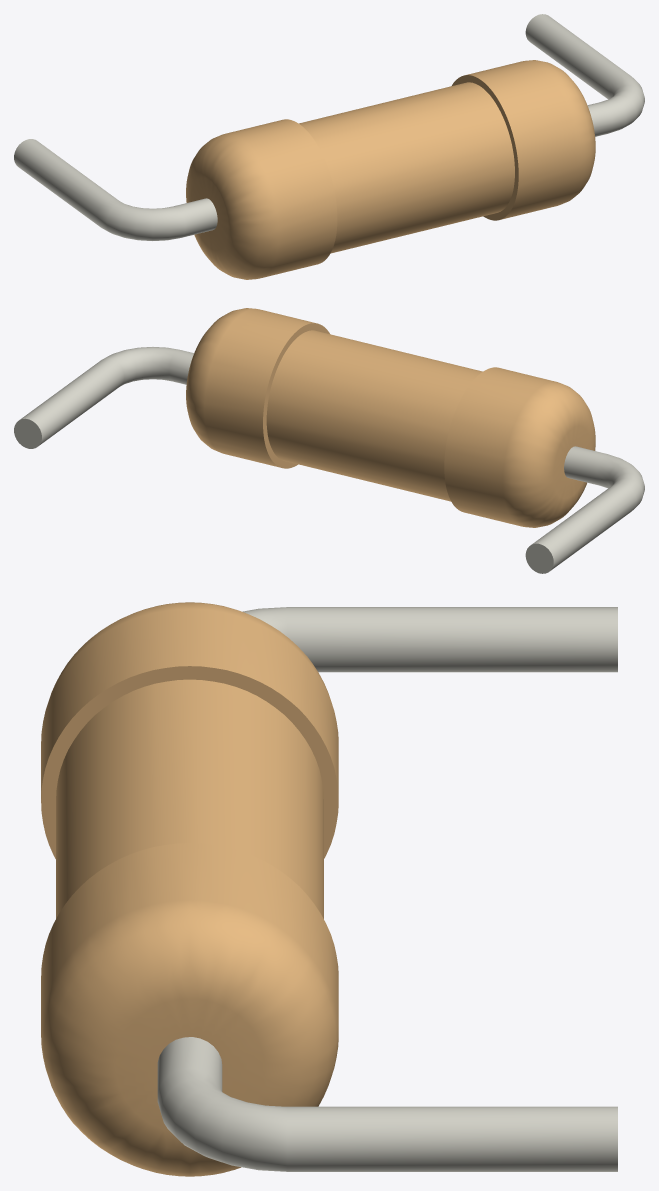
Rendered from r-axial-din0309-l9.0-d3.2-p12.70-h.glb.
3 views of the same model, one above another, from view 1: azimuth 30°, elevation 25°; view 2: azimuth 150°, elevation 25°; view 3: azimuth 270°, elevation 25° (orthographic). The views are drawn at different scales.
Visible parts, largest first — view 1: RES-THT-01, PIN-01; view 2: RES-THT-01, PIN-01; view 3: RES-THT-01, PIN-01.
Boxes of the visible parts, x1,y1,x2,y2 form: RES-THT-01: (186, 60, 595, 279); PIN-01: (14, 14, 644, 240); RES-THT-01: (186, 308, 595, 527); PIN-01: (14, 347, 644, 573); RES-THT-01: (41, 602, 338, 1176); PIN-01: (157, 607, 617, 1171).
Bounding box in the file's own units: 13.4 × 3.2 × 6.2.
